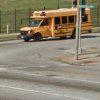Bus: (24, 4, 94, 39)
